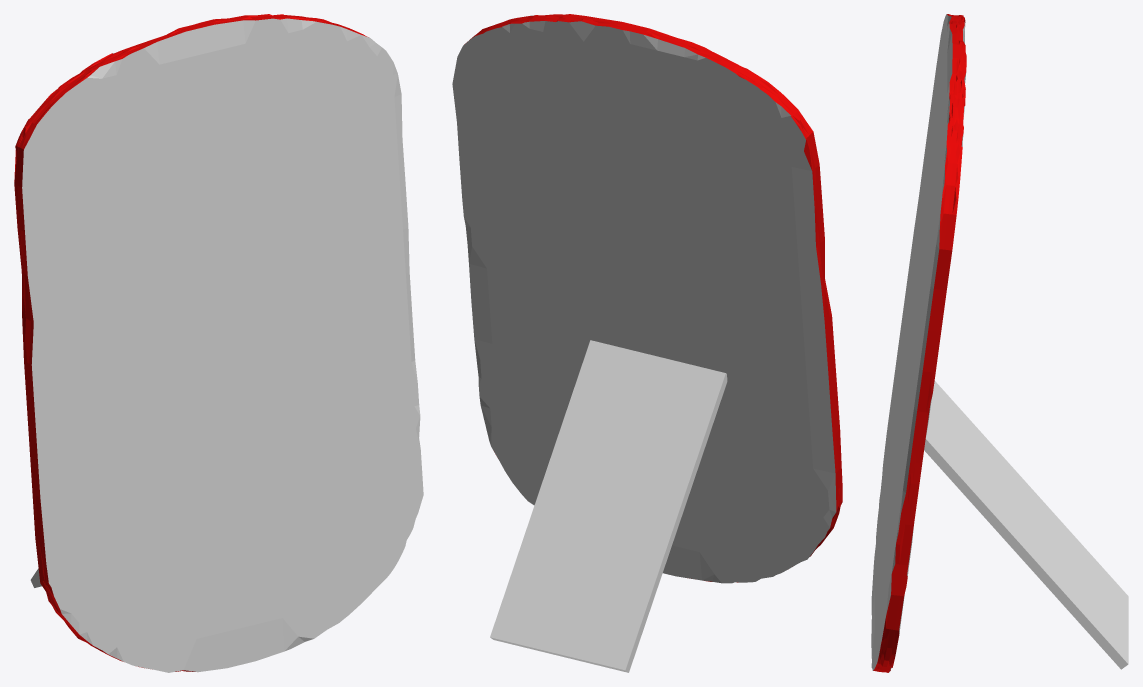
Rendered from stool carboard test.fbx.
The picture shows the model from 3 angles, left to right: view 1: azimuth 30°, elevation 25°; view 2: azimuth 150°, elevation 25°; view 3: azimuth 270°, elevation 25°; orthographic projection. The views are drawn at different scales.
Parts seen in each view (by area): view 1: Plane; view 2: Plane, Plane.001; view 3: Plane, Plane.001.
Boxes of the visible parts, <box> form: Plane: <box>14,14,423,672</box>; Plane: <box>452,14,842,583</box>; Plane.001: <box>490,340,727,672</box>; Plane: <box>871,14,966,672</box>; Plane.001: <box>924,381,1128,669</box>.
Bounding box in the file's own units: 98.39 × 149 × 58.74.
